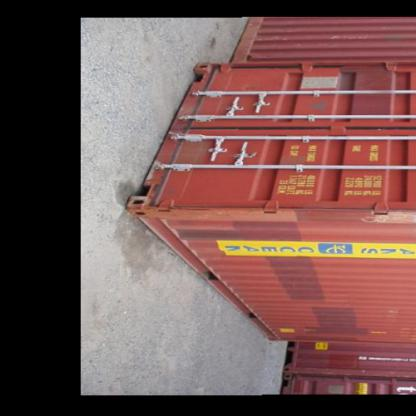Damage: (130, 200, 282, 231), (170, 92, 212, 170)
